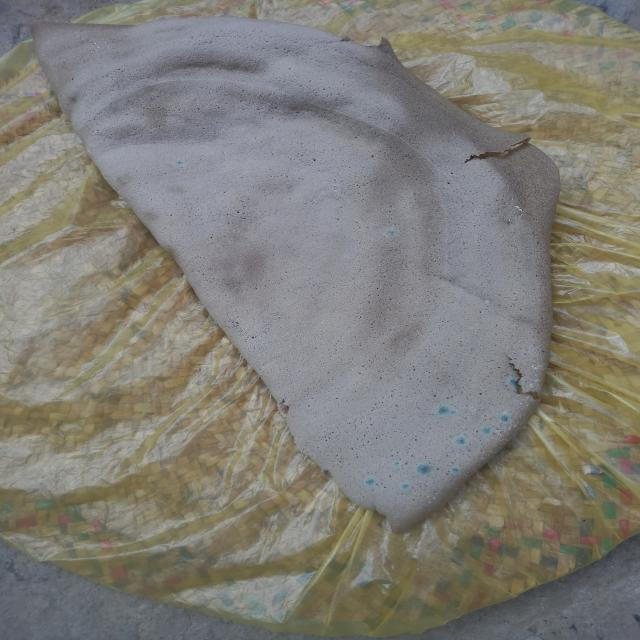injera_mold: (509, 378, 525, 390), (414, 464, 433, 474), (531, 364, 547, 374), (436, 405, 451, 415), (501, 411, 512, 423), (495, 429, 505, 442), (513, 409, 526, 419), (454, 436, 468, 445), (384, 228, 399, 236), (530, 378, 541, 388), (363, 477, 375, 486), (514, 422, 523, 432), (450, 466, 461, 474), (502, 424, 512, 432), (481, 427, 492, 434), (400, 482, 410, 489), (481, 454, 490, 460), (520, 396, 530, 401), (450, 409, 458, 415), (463, 471, 469, 478), (176, 160, 183, 166), (515, 206, 523, 211), (490, 450, 497, 455), (392, 462, 400, 466), (517, 394, 527, 397), (524, 402, 529, 406), (470, 407, 474, 411), (468, 462, 472, 466), (505, 438, 509, 442), (426, 496, 432, 498), (433, 496, 437, 499), (428, 501, 432, 504), (96, 45, 100, 48), (497, 443, 502, 445), (507, 433, 510, 436), (519, 403, 523, 405), (478, 462, 480, 465), (506, 202, 508, 205), (522, 210, 525, 212), (508, 219, 511, 221), (511, 198, 514, 200), (193, 17, 196, 19), (94, 42, 97, 44), (483, 460, 485, 462), (494, 442, 496, 444), (521, 214, 523, 216), (499, 211, 501, 213), (82, 38, 84, 40), (96, 49, 98, 51), (90, 51, 92, 53), (102, 39, 104, 41), (105, 42, 106, 44), (496, 441, 497, 442), (496, 445, 497, 446), (184, 18, 191, 18)
